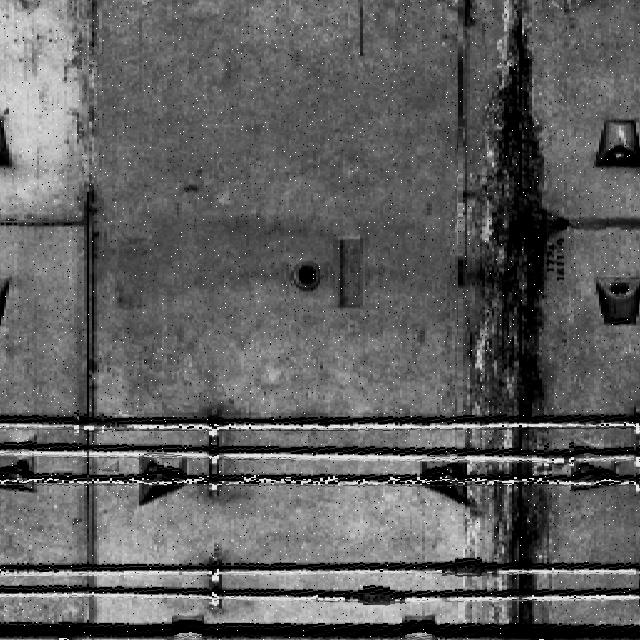leakage: (454, 0, 573, 630), (574, 209, 639, 233)
